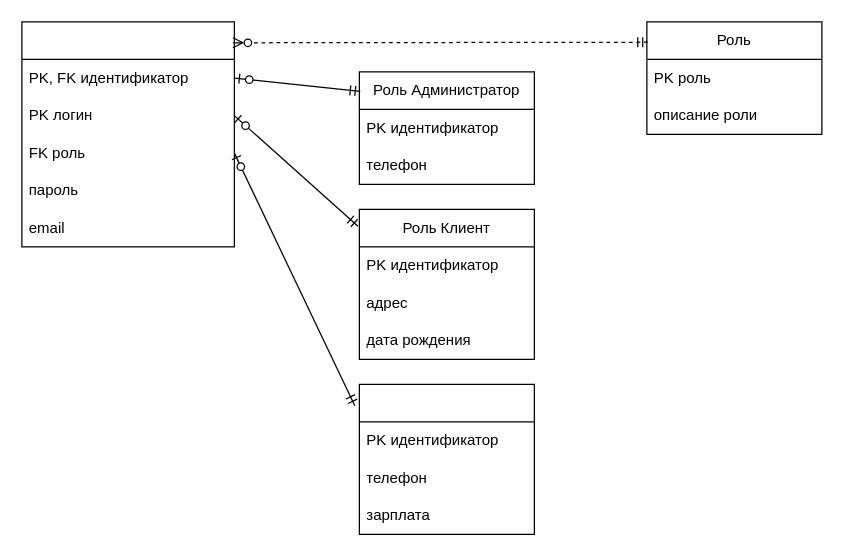
Image size: 844x556. Some labels were removed from this diagram. The box of each missing label's shape, as (x1, y1, x2, y2) in pixels:
Пользователь: (21, 21, 234, 247)
Роль Менеджер: (358, 383, 534, 534)
